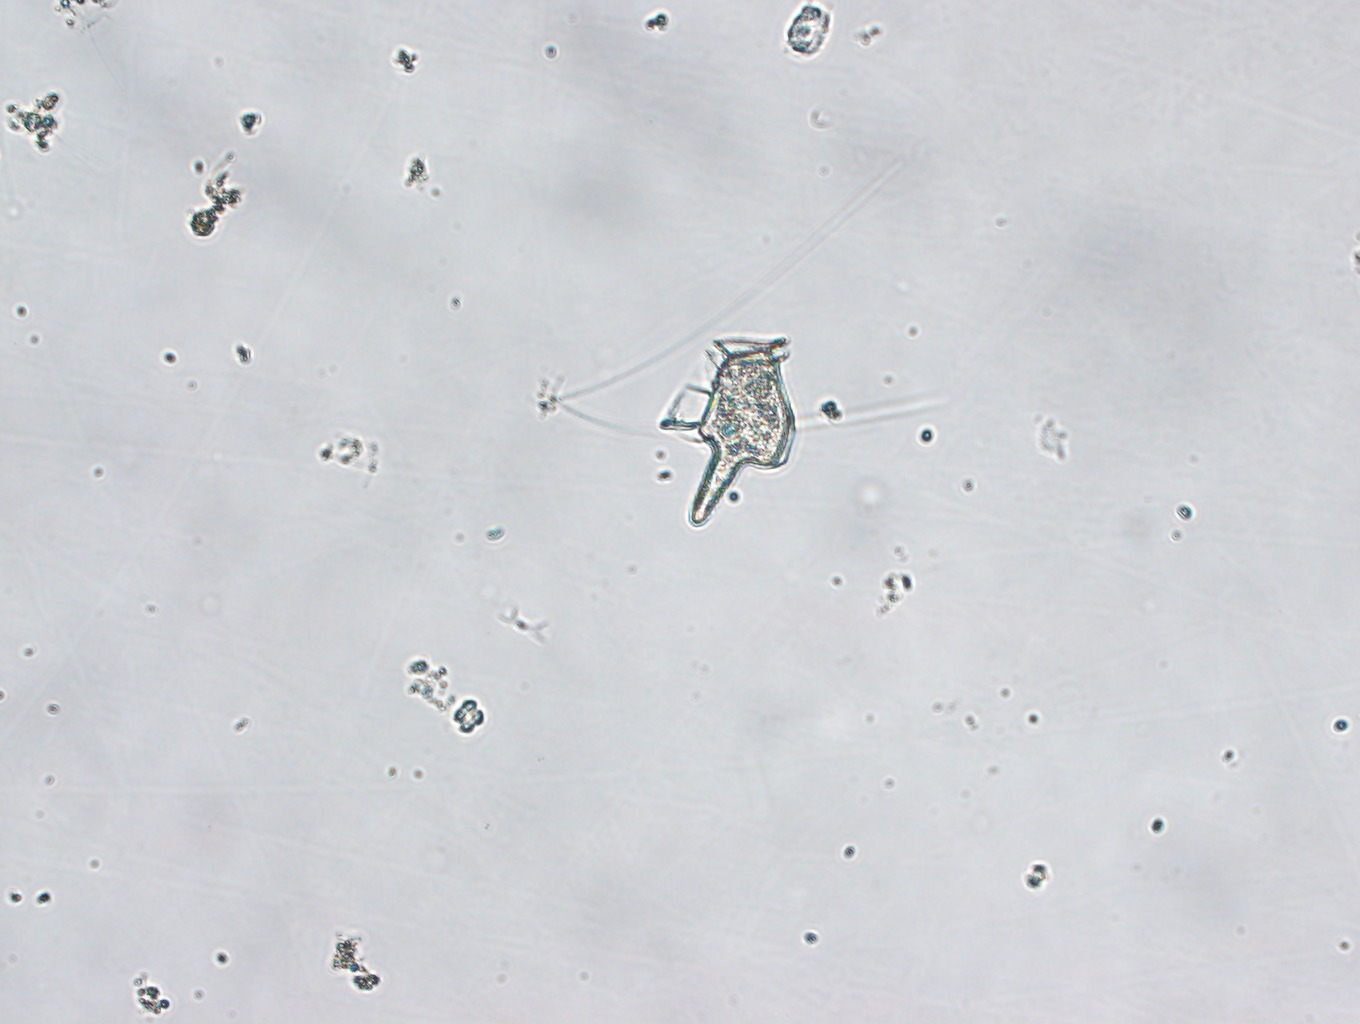dinophysis caudata: (657, 337, 796, 531)
